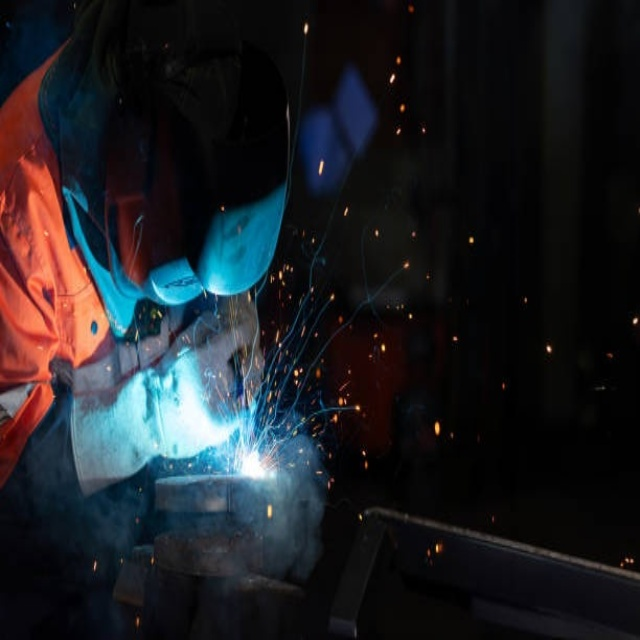Guantes: (64, 308, 260, 510)
